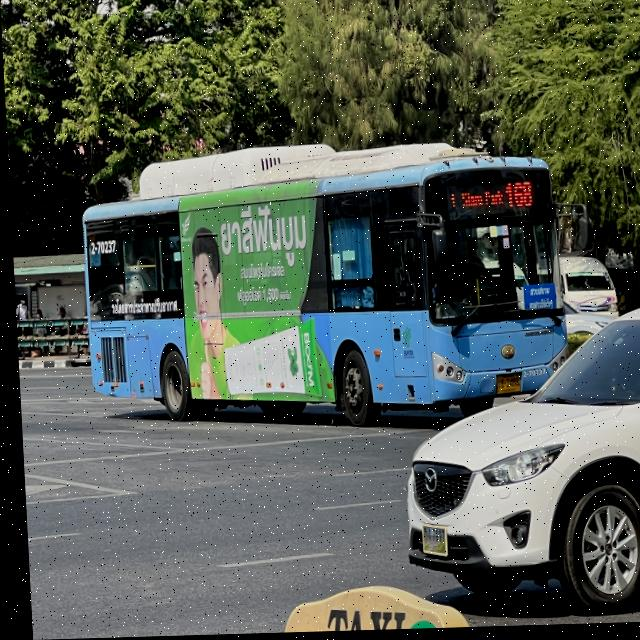BMTA-bus: (75, 141, 569, 436)
Bus-Line-Number: (501, 181, 534, 214)
Destination-Sign-Normal: (519, 286, 553, 315)
